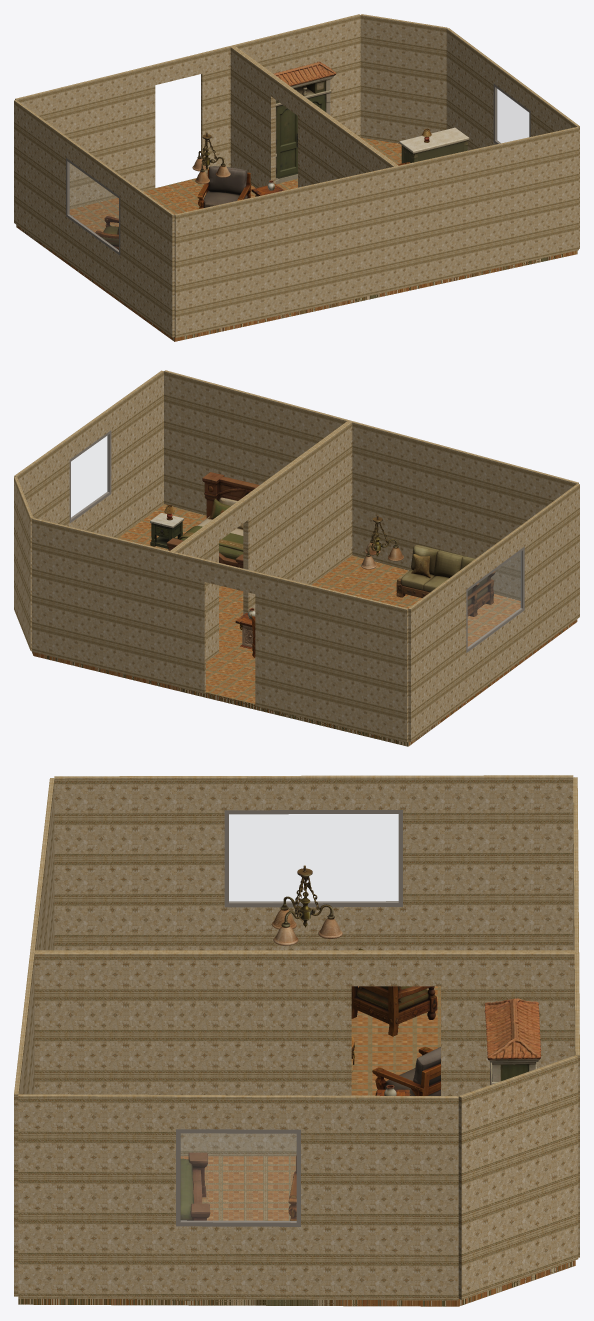
File: ghibli-home-alt.glb
The picture shows the model from 3 angles, top to bottom: view 1: azimuth 30°, elevation 25°; view 2: azimuth 150°, elevation 25°; view 3: azimuth 270°, elevation 25°; orthographic projection. The views are drawn at different scales.
Visible parts, largest first — view 1: geometry_0.003, geometry_0.010, geometry_0.002, geometry_0.001, geometry_0.015, geometry_0.013, geometry_0.012, geometry_0.014, geometry_0, geometry_0.020, glass, geometry_0.018 (+8 smaller); view 2: geometry_0.001, geometry_0.003, geometry_0.002, geometry_0.014, geometry_0.015, geometry_0.010, geometry_0.012, geometry_0, geometry_0.009, glass, geometry_0.005, geometry_0.016 (+7 smaller); view 3: geometry_0.012, geometry_0.002, geometry_0.004, geometry_0.013, glass, glass.001, geometry_0.009, geometry_0, geometry_0.020, geometry_0.029, geometry_0.010, frame (+8 smaller).
Part boxes in pixels (x1,y1,x2,y2): geometry_0.003: (174,166,397,337); geometry_0.010: (396,127,578,289); geometry_0.002: (14,100,174,337); geometry_0.001: (15,45,232,208); geometry_0.015: (230,46,395,187); geometry_0.013: (360,14,447,143); geometry_0.012: (446,28,579,248); geometry_0.014: (232,14,360,137); geometry_0: (16,178,396,341); geometry_0.020: (273,61,336,184); glass: (69,163,118,250); geometry_0.018: (399,127,469,163); geometry_0.001: (171,551,408,742); geometry_0.003: (350,421,578,600); geometry_0.002: (408,483,579,741); geometry_0.014: (32,518,171,685); geometry_0.015: (173,422,352,661); geometry_0.010: (164,370,350,515); geometry_0.012: (14,370,163,537); geometry_0: (172,555,577,746); geometry_0.009: (31,504,243,689); glass: (468,552,521,647); geometry_0.005: (396,545,495,616); geometry_0.016: (166,472,259,568); geometry_0.012: (18,1094,458,1300); geometry_0.002: (54,775,573,950); geometry_0.004: (34,952,574,1156); geometry_0.013: (458,1055,578,1299); glass: (229,814,398,902); glass.001: (181,1133,296,1221); geometry_0.009: (18,1156,575,1306); geometry_0: (351,986,440,1095); geometry_0.020: (484,998,541,1084); geometry_0.029: (351,948,437,1036); geometry_0.010: (14,952,34,1296); frame: (224,810,402,907).
Bounding box in the file's own units: 8.55 × 2.6 × 6.34.
16 materials, 14 textured.
